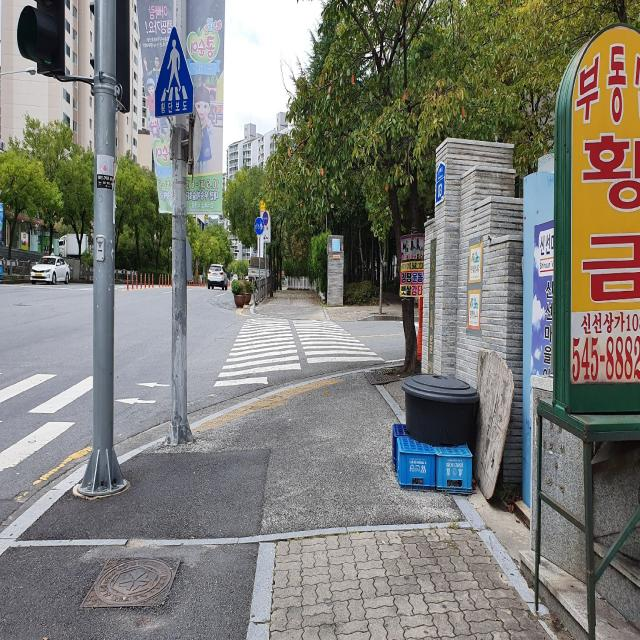횡단보도: (213, 316, 386, 388), (0, 384, 85, 457)
